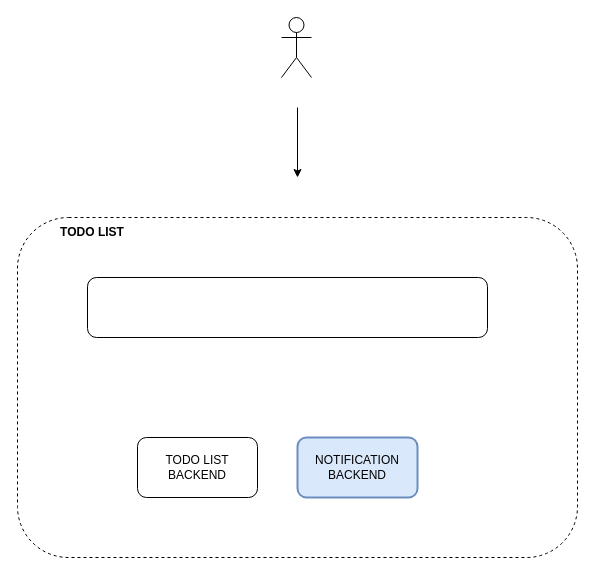
The diagram is 595 pixels wide and 575 high, and some of its shapes have lost their labels. The box of each missing label's shape, as (x1, y1, x2, y2) in pixels:
TODO LIST FRONTEND: (86, 276, 488, 338)
usuário: (280, 16, 312, 78)
